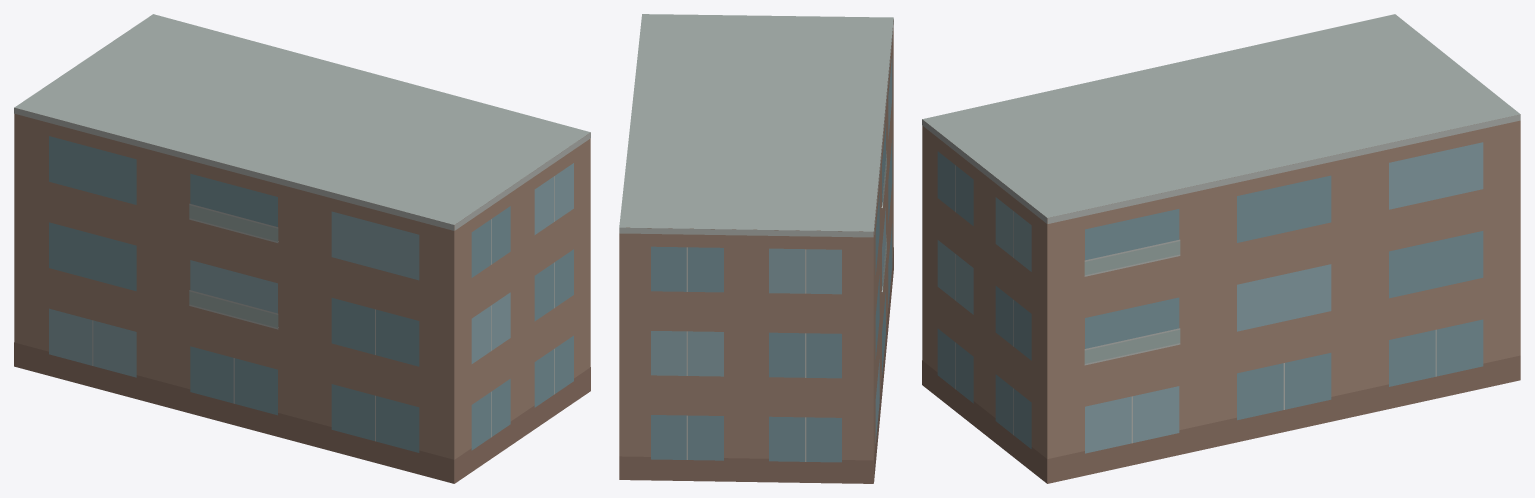
Rendered from survey-upis-32768316.glb.
The picture shows the model from 3 angles, left to right: view 1: azimuth 30°, elevation 25°; view 2: azimuth 150°, elevation 25°; view 3: azimuth 270°, elevation 25°; orthographic projection. The views are drawn at different scales.
Parts seen in each view (by area): view 1: survey-upis-32768316.tmp; view 2: survey-upis-32768316.tmp; view 3: survey-upis-32768316.tmp.
Part boxes in pixels (x1,y1,x2,y2): survey-upis-32768316.tmp: (14,14,590,483); survey-upis-32768316.tmp: (619,14,893,483); survey-upis-32768316.tmp: (922,14,1520,483).
Size of the model in its own units: 17.29 by 10.5 by 21.43.
